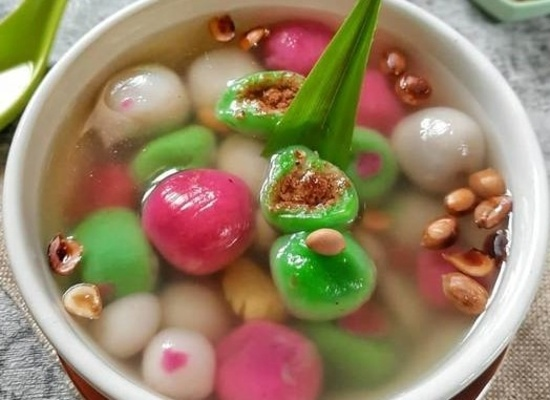ronde: (40, 6, 493, 400)
